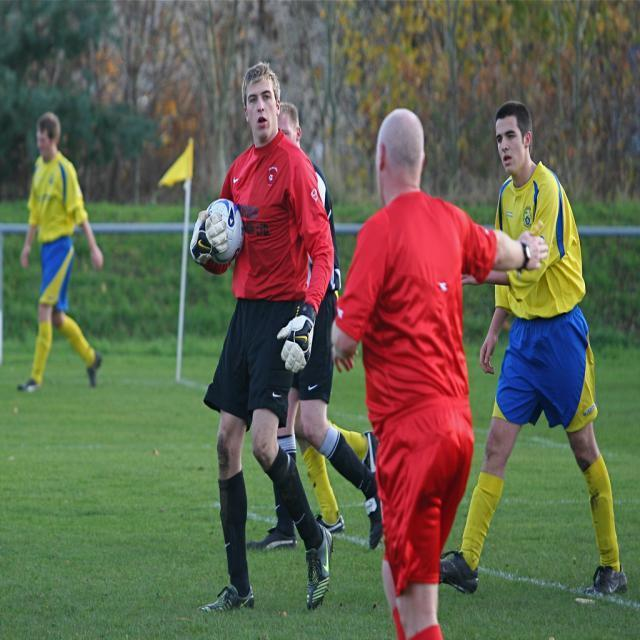football: (193, 199, 251, 264)
